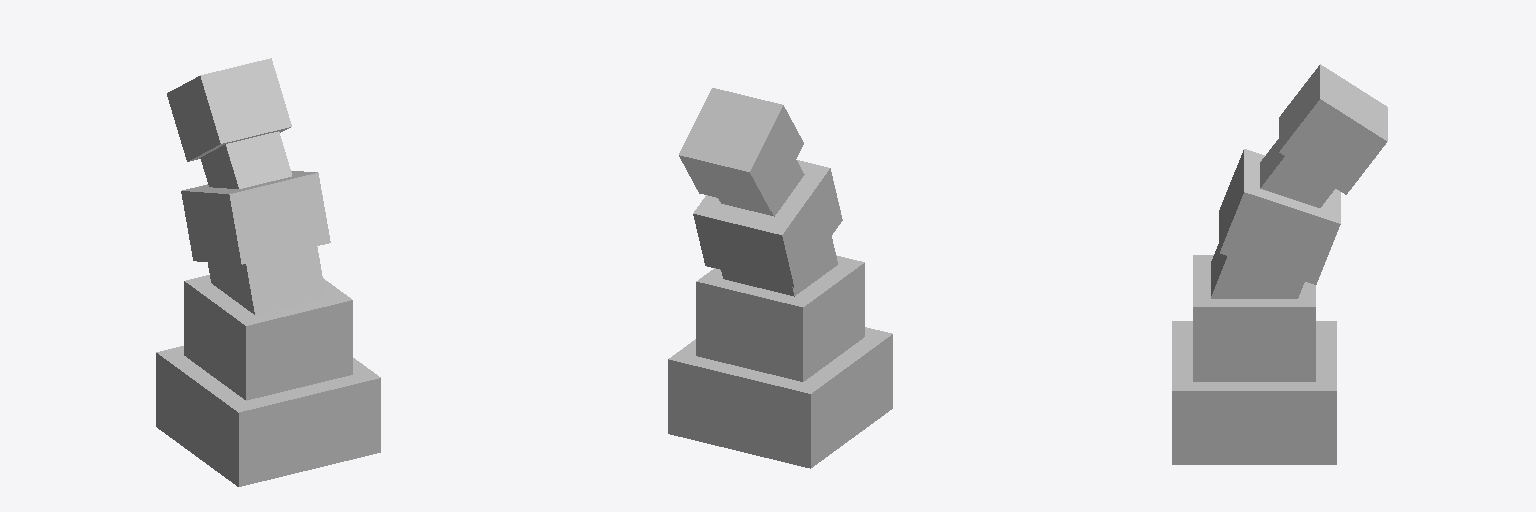
File: pillar.obj
3 renders of one model, left to right at view 1: azimuth 30°, elevation 25°; view 2: azimuth 150°, elevation 25°; view 3: azimuth 270°, elevation 25°, orthographic.
Visible parts, largest first — view 1: d40, d41, d51, d61, d50, d60; view 2: d40, d41, d51, d61, d50, d60; view 3: d40, d41, d51, d61, d50, d60.
Boxes of the visible parts, <box> form: d40: <box>156,346,380,486</box>; d41: <box>184,275,352,400</box>; d51: <box>181,171,330,264</box>; d61: <box>167,58,291,161</box>; d50: <box>208,246,325,314</box>; d60: <box>200,131,291,188</box>; d40: <box>668,327,892,468</box>; d41: <box>696,255,864,381</box>; d51: <box>693,160,842,287</box>; d61: <box>679,88,803,210</box>; d50: <box>721,236,837,296</box>; d60: <box>718,160,804,216</box>; d40: <box>1172,321,1336,464</box>; d41: <box>1193,255,1315,381</box>; d51: <box>1219,149,1340,284</box>; d61: <box>1279,64,1387,194</box>; d50: <box>1211,244,1304,298</box>; d60: <box>1260,139,1335,207</box>.
Size of the model in its own units: 1 by 2.34 by 1.31.